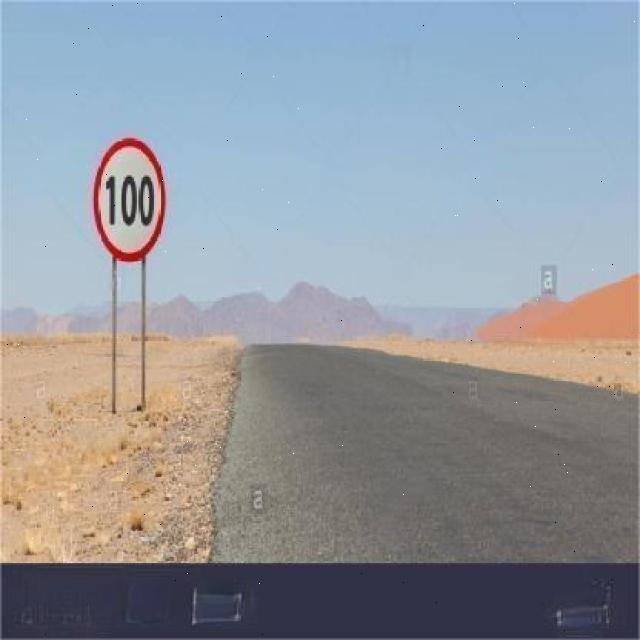speed limit 100: (92, 138, 165, 263)
